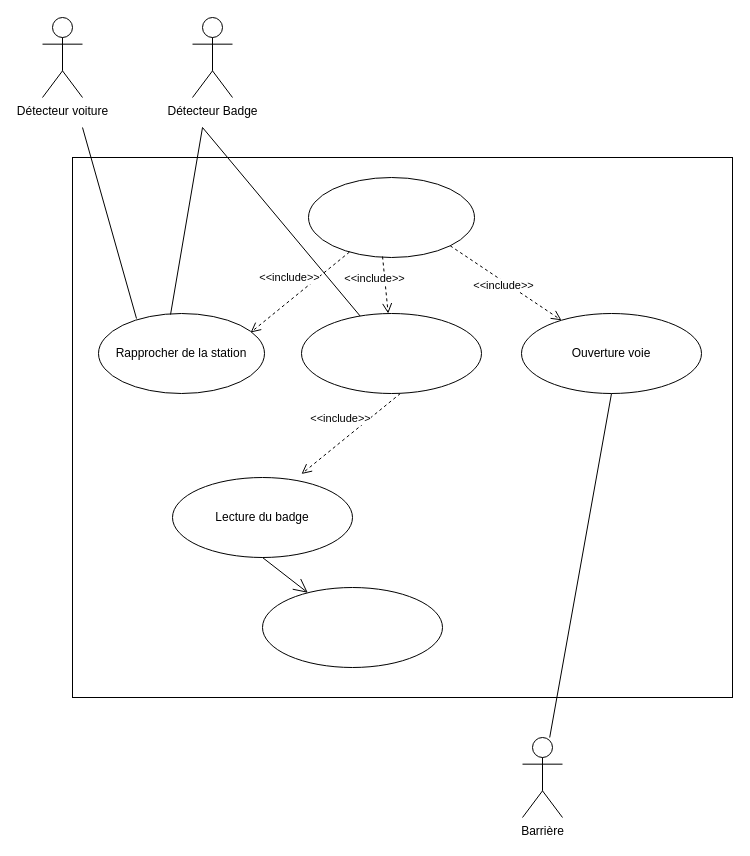
The diagram is 750 pixels wide and 856 high, and some of its shapes have lost their labels. Here are the shapes that lost their labels. From the top down, the centre of each, then its label:
(x=391, y=217): Controle payage
(x=391, y=353): Détecter le badge
(x=352, y=627): Sauvegarder des données
